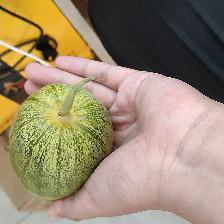gua: (33, 95, 94, 174)
